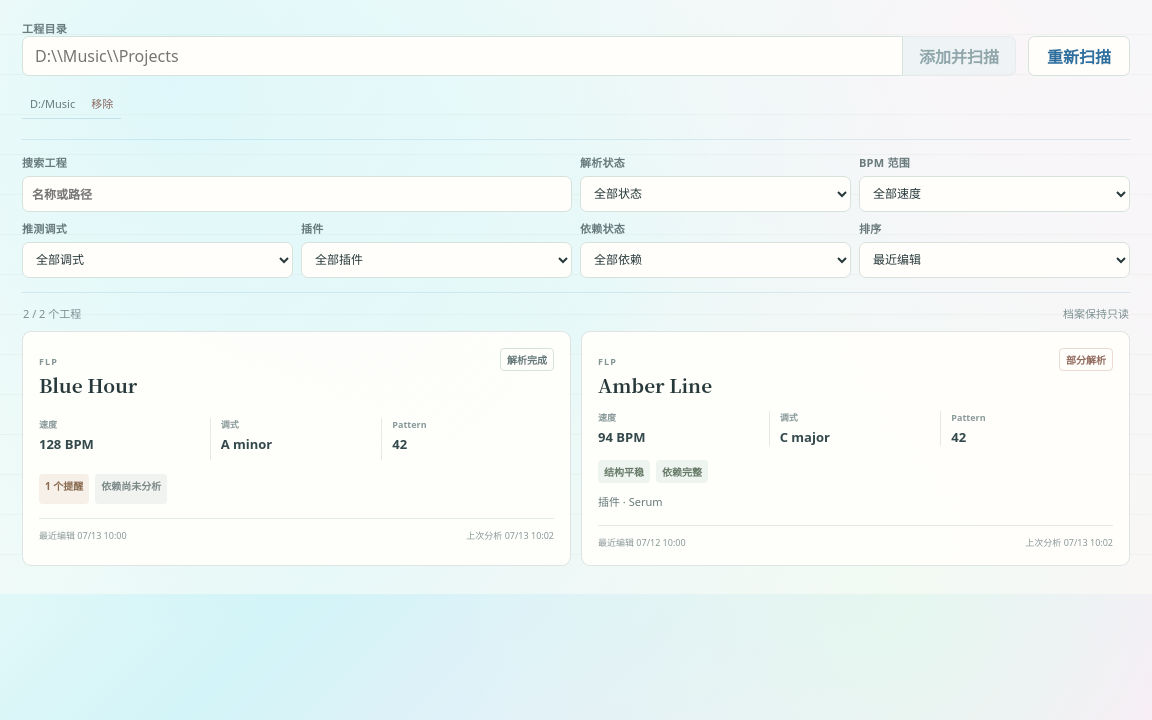
Test case: StudioLibrary › keeps unavailable dependency analysis truthful and filterable
This screenshot has width=1152, height=720.
Expected: the link "Blue Hour" shows "依赖尚未分析", [22,331,571,566]
Expected: the link "Blue Hour" does not show "依赖完整"
Select "依赖完整" in the dropdown labelled "依赖状态" at (716, 260), box [580,242,851,278]
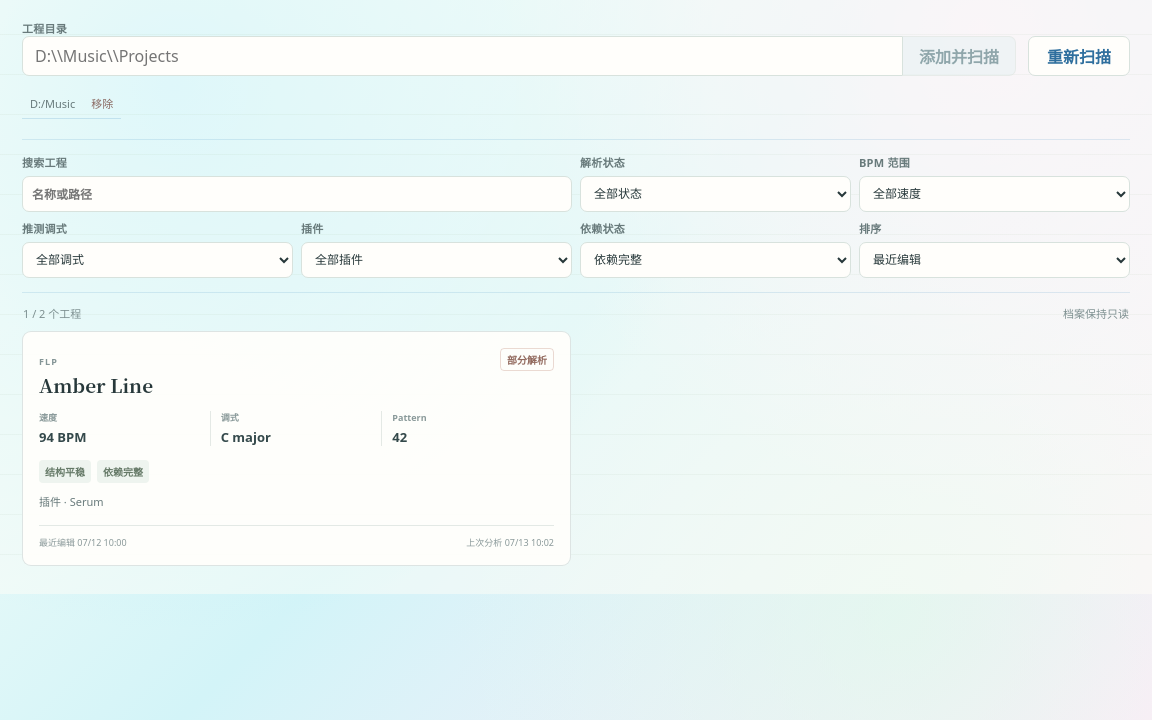
Expected: the link "Amber Line" is shown, [22,331,571,566]
Result: the link "Blue Hour" is gone
Select "尚未分析" in the dropdown labelled "依赖状态" at (716, 260), box [580,242,851,278]
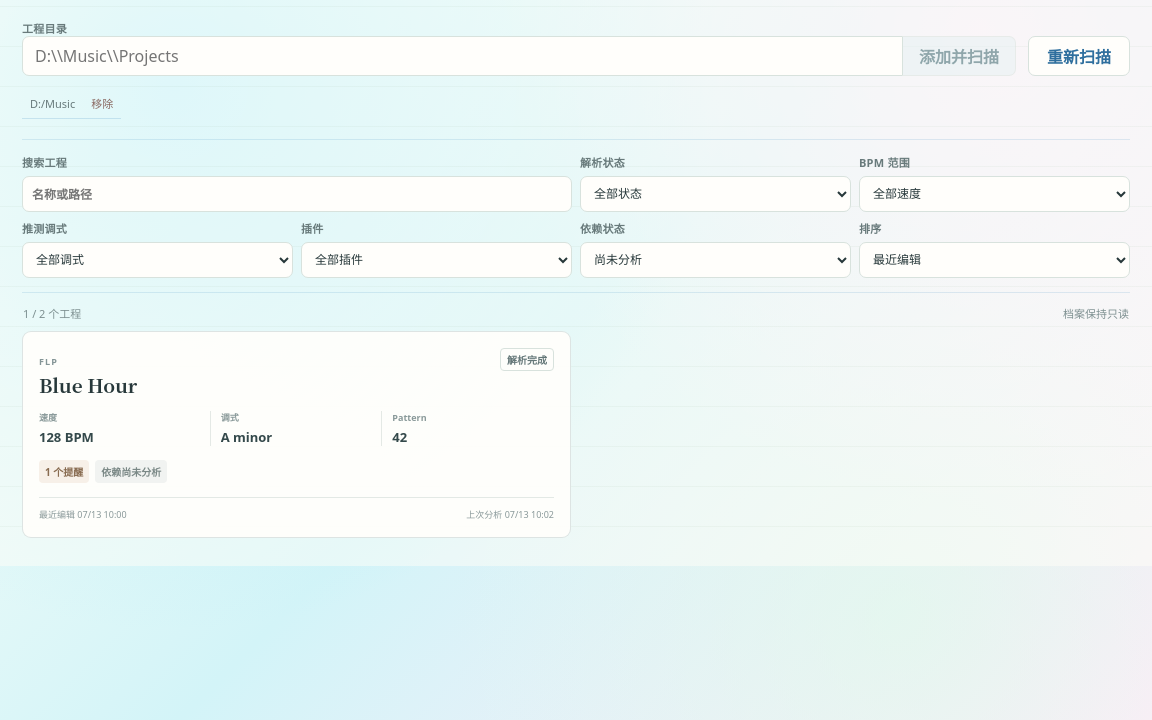
Result: the link "Blue Hour" is shown at [22,331,571,538]
Result: the link "Amber Line" is gone
